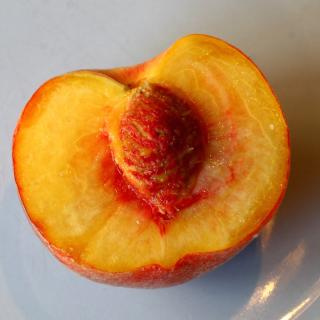Peach: (12, 32, 290, 290)
